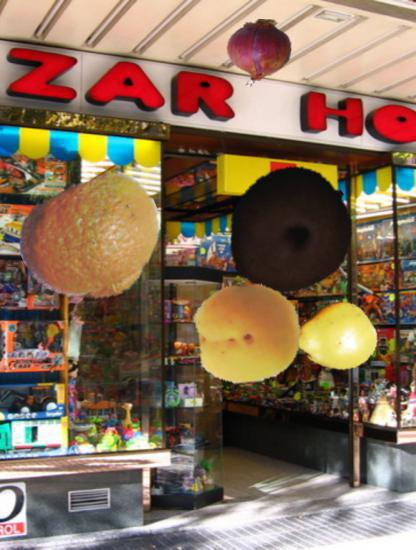Mandarine: (20, 168, 165, 313)
Onion: (225, 19, 293, 87)
Peach: (194, 279, 304, 389)
Pear: (223, 165, 355, 297)
Quince: (294, 295, 377, 378)
